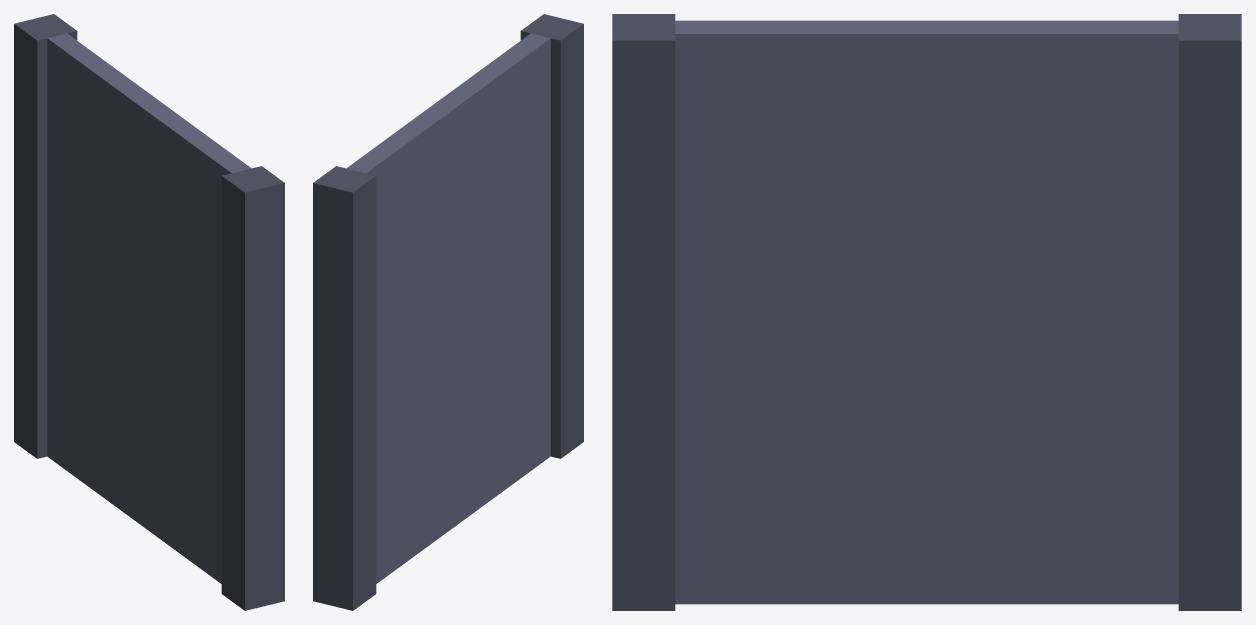
Rendered from wall-wood.glb.
3 views of the same model, side by side, from view 1: azimuth 30°, elevation 25°; view 2: azimuth 150°, elevation 25°; view 3: azimuth 270°, elevation 25° (orthographic). The views are drawn at different scales.
Parts seen in each view (by area): view 1: wall-wood; view 2: wall-wood; view 3: wall-wood.
Boxes of the visible parts, x1,y1,x2,y2 form: wall-wood: (14, 14, 284, 610); wall-wood: (313, 14, 583, 610); wall-wood: (612, 14, 1241, 610).
Bounding box in the file's own units: 0.1 × 1 × 1.
Materials: 1 (1 with a texture image).
